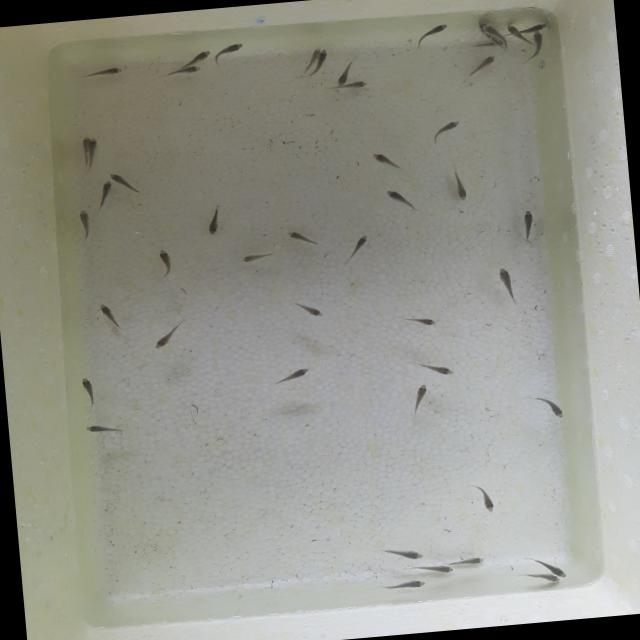fingerling: (409, 20, 447, 46), (379, 543, 424, 563), (154, 322, 186, 349), (375, 147, 408, 173), (112, 172, 144, 196), (468, 52, 500, 76), (165, 60, 210, 77), (286, 226, 322, 246), (388, 185, 418, 208), (212, 40, 246, 60), (346, 234, 371, 260), (277, 366, 313, 384), (180, 46, 216, 64), (535, 570, 566, 590), (99, 303, 121, 329), (516, 212, 538, 238), (81, 376, 100, 406), (294, 296, 322, 316), (74, 210, 94, 238), (541, 394, 564, 418), (94, 182, 114, 208), (86, 66, 129, 78), (430, 117, 460, 134), (334, 61, 355, 85), (158, 250, 178, 275), (415, 361, 448, 376), (498, 265, 516, 292), (88, 424, 128, 436), (206, 202, 223, 230), (476, 484, 494, 510), (302, 45, 320, 71), (411, 388, 431, 411), (525, 19, 552, 36), (417, 564, 451, 576), (533, 29, 546, 60), (316, 48, 332, 73), (386, 580, 424, 590), (550, 559, 568, 580), (244, 251, 278, 262), (88, 136, 101, 163), (411, 313, 436, 327), (346, 78, 369, 92), (481, 22, 501, 37), (454, 172, 466, 196), (504, 23, 523, 38), (458, 554, 485, 564), (80, 136, 90, 163)
